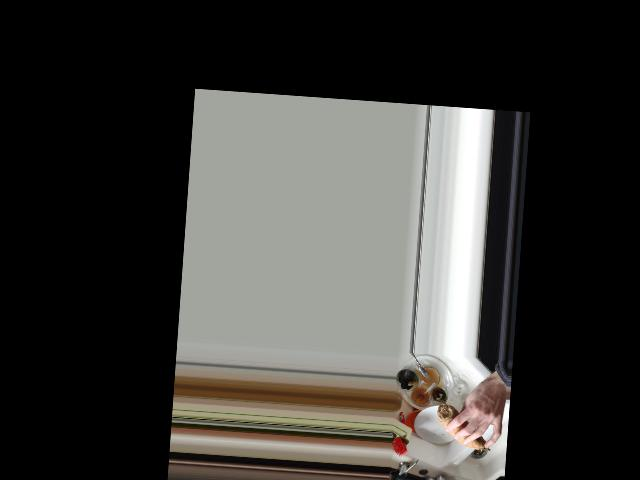sweet_potato: (436, 404, 494, 450)
